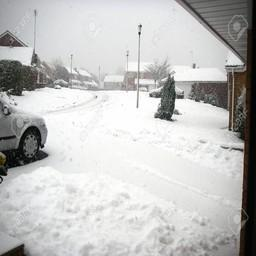Snow: (0, 87, 244, 255), (0, 96, 42, 118), (172, 68, 227, 81), (0, 46, 34, 66), (227, 51, 244, 65), (104, 76, 125, 82), (169, 65, 188, 71), (140, 63, 154, 71), (139, 78, 155, 84), (126, 62, 137, 70), (78, 69, 90, 75), (151, 86, 163, 92), (66, 67, 77, 73), (176, 87, 183, 94), (134, 78, 137, 84)
